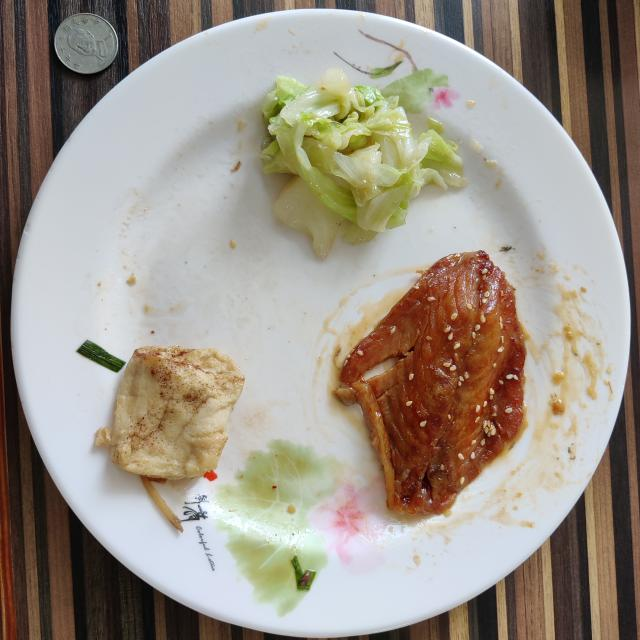Kabayaki sea bream fillet: (335, 251, 526, 514)
cabbage: (260, 69, 466, 255)
coin: (54, 12, 119, 74)
creamy tofu -without sauce-: (98, 346, 244, 480)
